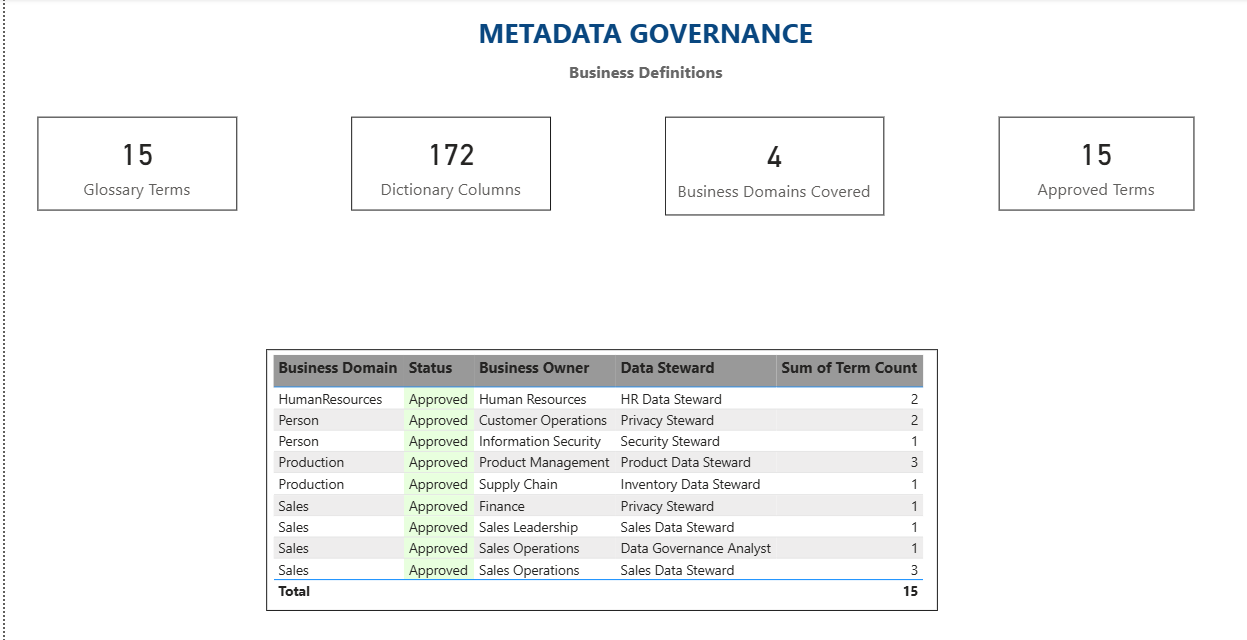

This screenshot's page, from the dashboard's own definition file:
{"tool":"powerbi","page":{"name":"Bussiness Definitions","canvas":[1280,720],"ordinal":2},"visuals":[{"type":"textbox","box":[9.8,11,1238,45.4],"z":0},{"type":"textbox","box":[9.8,56.4,1238,39.3],"z":1000},{"type":"card","fields":{"Values":["vw_BusinessGlossarySummary.Total Glossary Terms"]},"box":[31.7,116.9,196.2,92.3],"z":2000},{"type":"card","fields":{"Values":["vw_DataDictionarySummary.Total Dictionary Columns"]},"box":[340,116.9,196.2,92.3],"z":3000},{"type":"card","fields":{"Values":["vw_BusinessGlossarySummary.Business Domains Covered"]},"box":[648.3,116.9,215,96.7],"z":4000},{"type":"card","fields":{"Values":["vw_BusinessGlossarySummary.Approved Terms"]},"box":[975.3,116.9,191.9,92.3],"z":5000},{"type":"tableEx","fields":{"Values":["vw_BusinessGlossarySummary.BusinessDomain","vw_BusinessGlossarySummary.Status","vw_BusinessGlossarySummary.Business Owner","vw_BusinessGlossarySummary.Data Steward","Sum(vw_BusinessGlossarySummary.GlossaryTermCount)"]},"box":[256.8,344.8,659.3,256.8],"z":6000}]}

Visuals, with their boxes on the page's 1280x720 design canvas (x1, y1, x2, y2). These are canvas units, not pixel positions in the 1247x640 screenshot, which may show the page scaled, cropped or inside an application window:
textbox: 10 11 1248 56
textbox: 10 56 1248 96
card - vw_BusinessGlossarySummary.Total Glossary Terms: 32 117 228 209
card - vw_DataDictionarySummary.Total Dictionary Columns: 340 117 536 209
card - vw_BusinessGlossarySummary.Business Domains Covered: 648 117 863 214
card - vw_BusinessGlossarySummary.Approved Terms: 975 117 1167 209
tableEx - vw_BusinessGlossarySummary.BusinessDomain x vw_BusinessGlossarySummary.Status: 257 345 916 602
